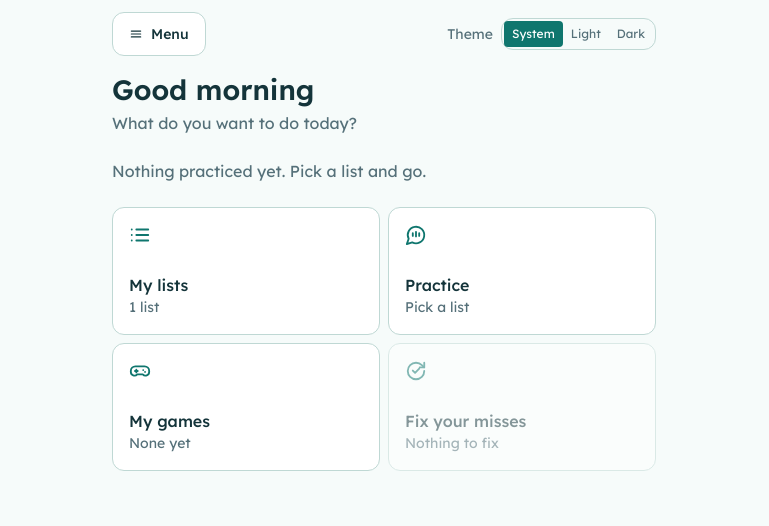
Scenario: practicing a Dutch/French list › carries a saved manual language choice back into the editor
Click the button "Menu".
click(159, 34)  # box [112, 12, 206, 56]
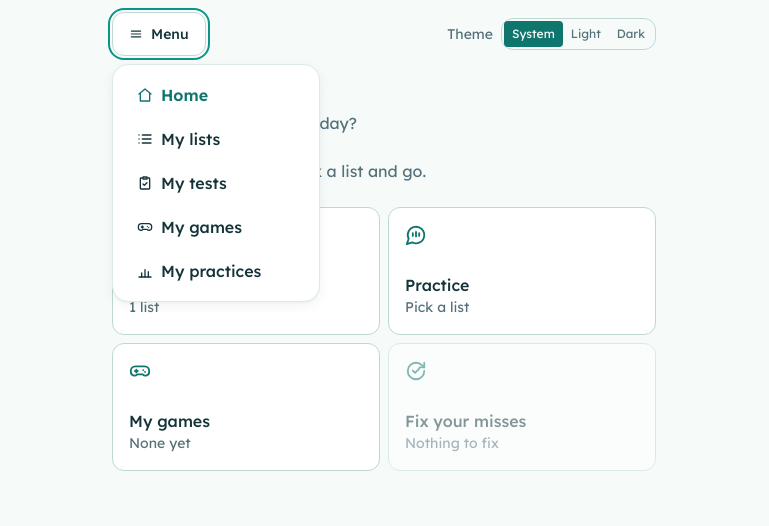
Click the menu item "My lists".
click(216, 139)  # box [121, 117, 311, 161]
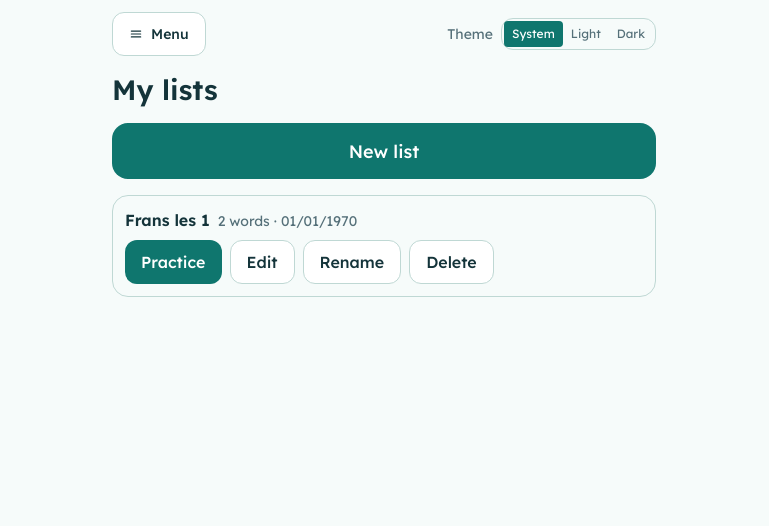
Click the button "Edit".
click(262, 262)  # box [230, 240, 295, 284]
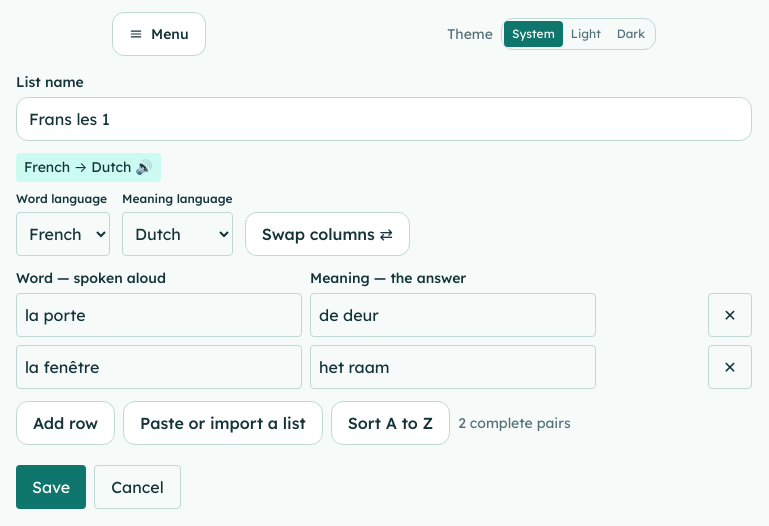
Check: the dropdown labelled "Meaning language" shows "Dutch", box [122, 212, 233, 256]
Check: the dropdown labelled "Word language" shows "French", box [16, 212, 110, 256]
